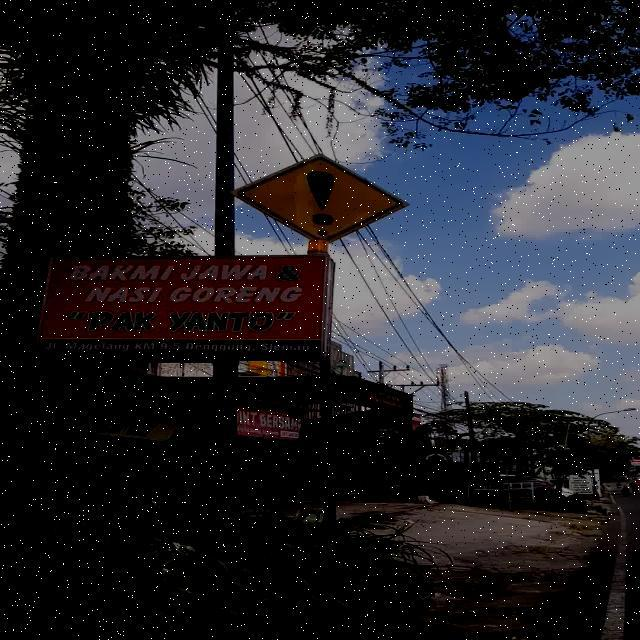Hati-Hati: (230, 153, 409, 240)
